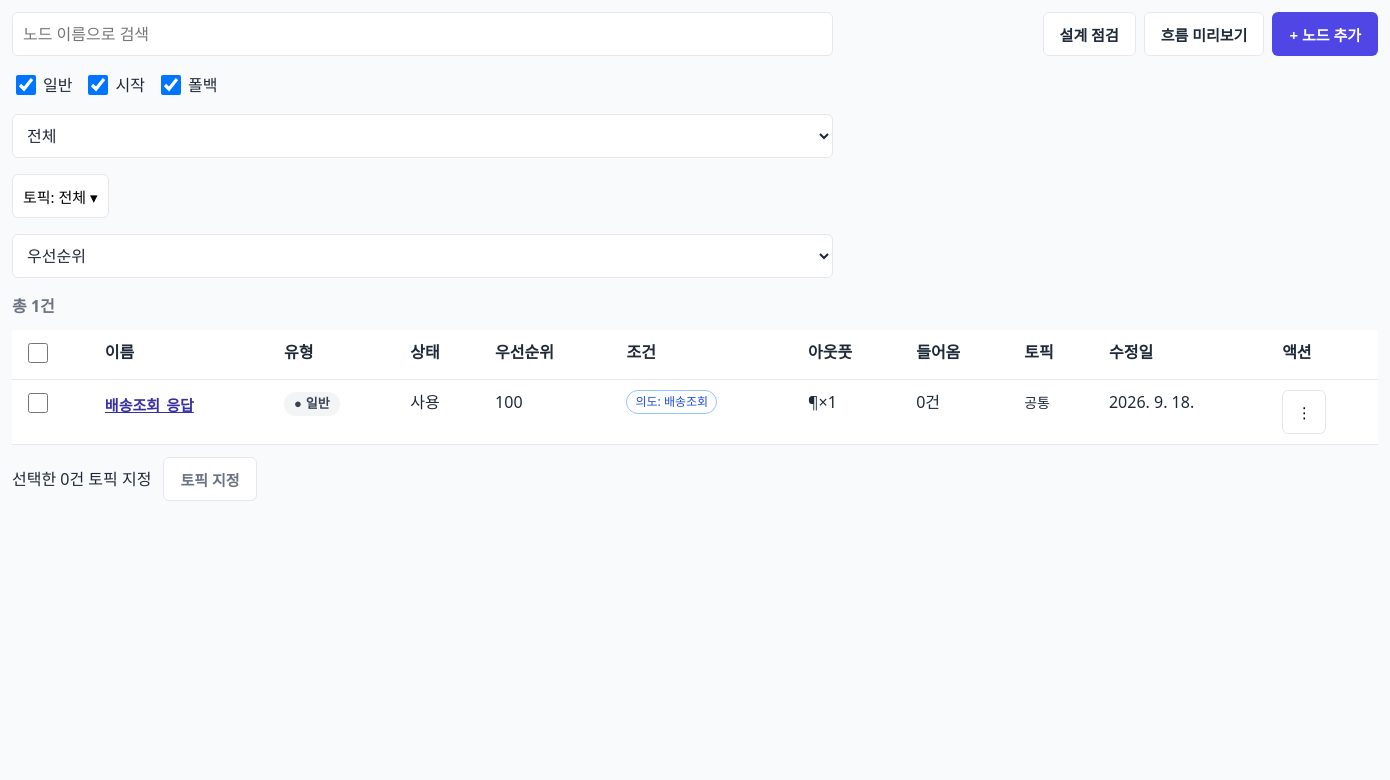
Scenario: NodesListPage › 복사 시 excludedLegacyApiOutputCount가 0이면 제외 안내 없이 기본 성공 토스트만 뜬다
Expected: the button "배송조회_응답" is shown, [105,390,194,419]
Click the button named "배송조회_응답 관리" at [1304, 412], box [1282,390,1326,434]
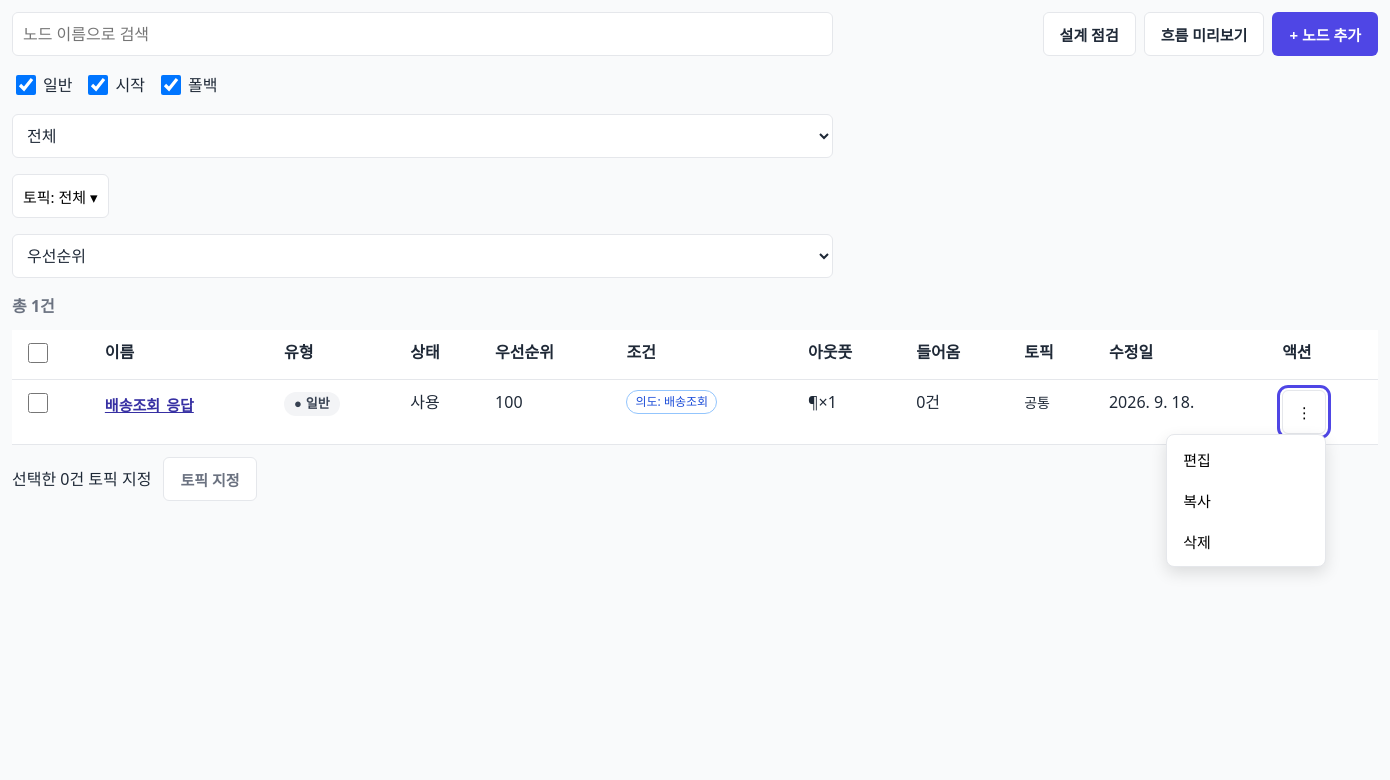
Click the menu item "복사" at [1246, 500], box [1171,480,1321,521]
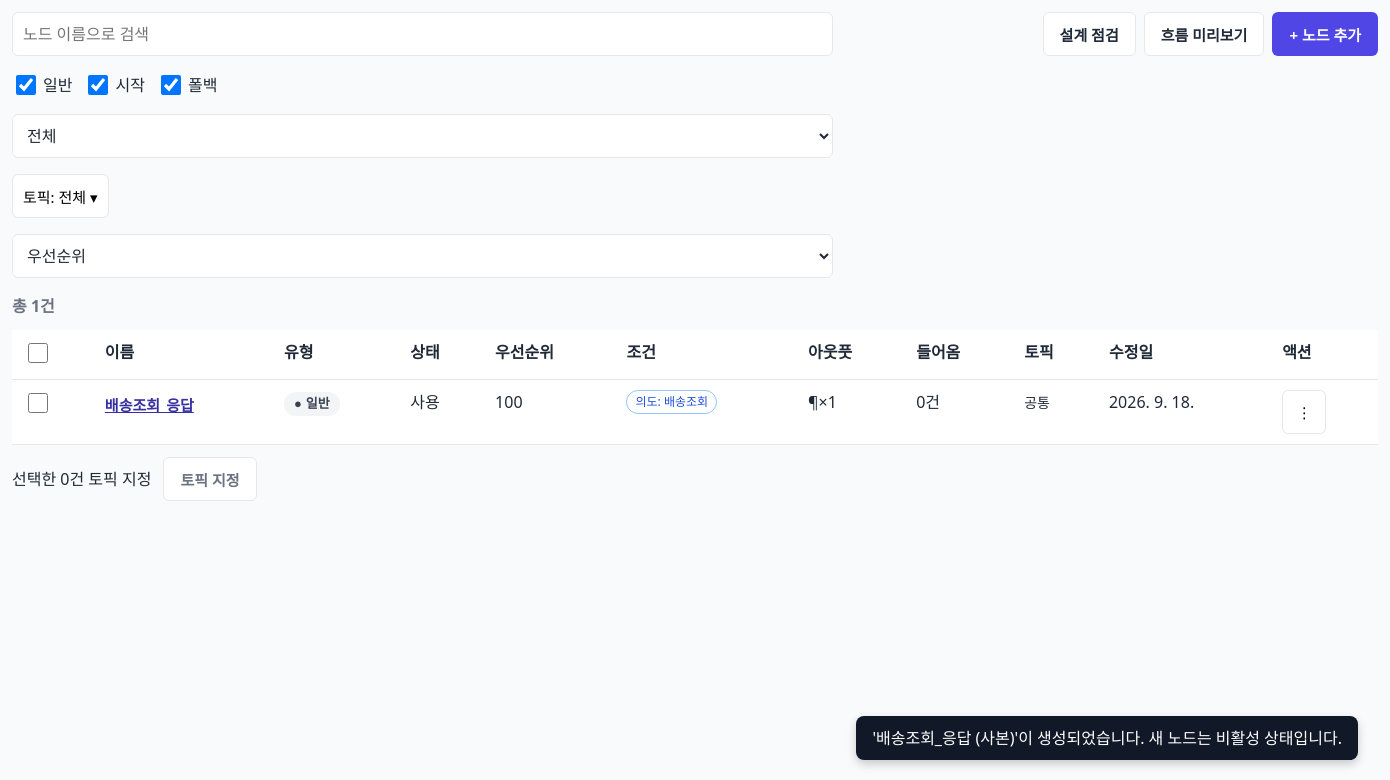
Expected: the text "'배송조회_응답 (사본)'이 생성되었습니다. 새 노드는 비활성 상태입니다." is shown, [856,716,1358,760]
